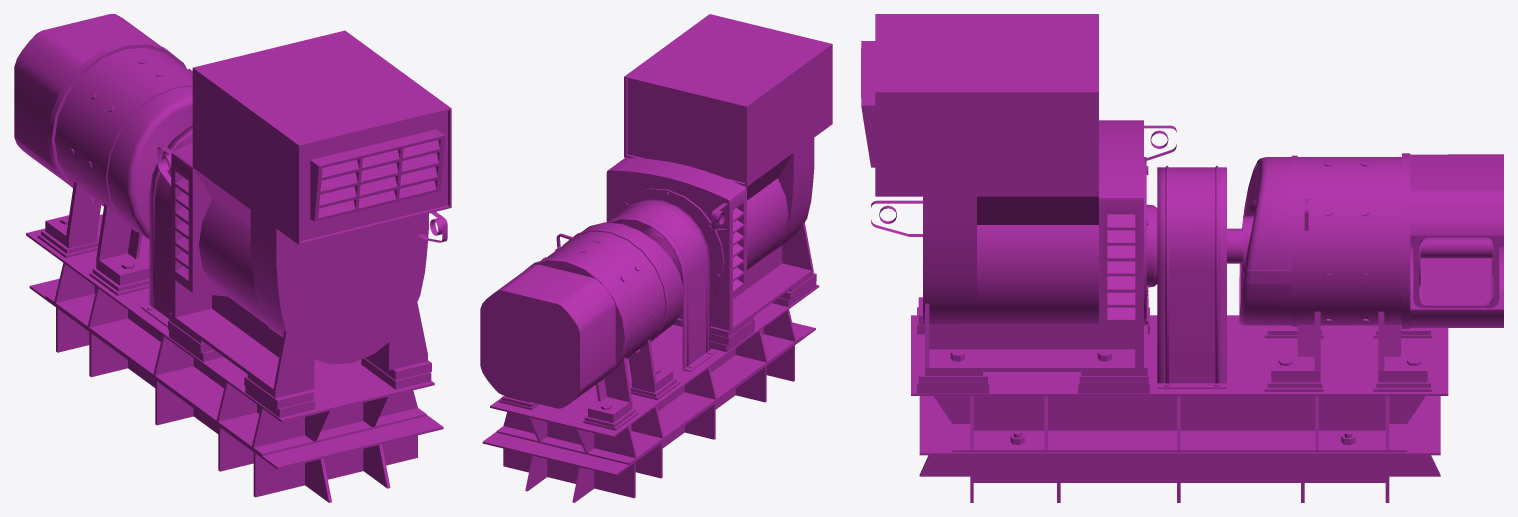
The model's file is Engine5.fbx.
3 renders of one model, left to right at view 1: azimuth 30°, elevation 25°; view 2: azimuth 150°, elevation 25°; view 3: azimuth 270°, elevation 25°, orthographic. The views are drawn at different scales.
Parts seen in each view (by area): view 1: Stuf3.003; view 2: Stuf3.003; view 3: Stuf3.003.
Boxes of the visible parts, <box> form: Stuf3.003: <box>14,14,451,502</box>; Stuf3.003: <box>480,14,832,502</box>; Stuf3.003: <box>861,14,1503,502</box>.
Bounding box in the file's own units: 57.03 × 126 × 181.
